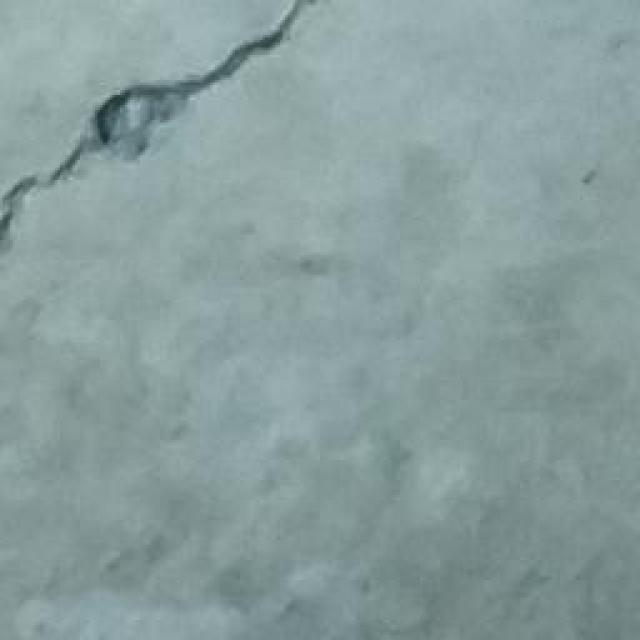Diagonal: (0, 0, 312, 235)
